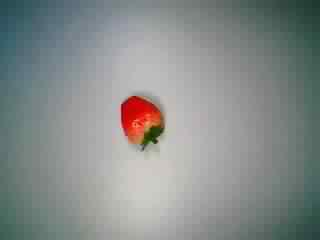strawberry: (108, 94, 174, 156)
